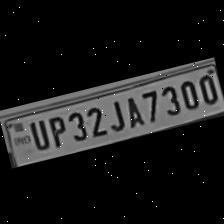0: (174, 74, 200, 111), (193, 69, 219, 106)
2: (81, 100, 108, 139)
3: (156, 79, 182, 117), (61, 106, 87, 143)
7: (136, 85, 162, 123)
A: (117, 90, 144, 129)
J: (100, 94, 127, 132)
P: (42, 110, 68, 148)
U: (23, 114, 49, 152)
